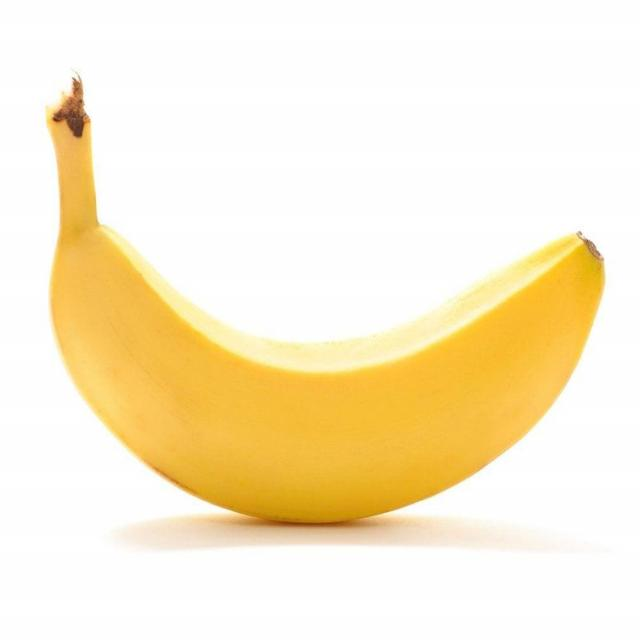banana: (40, 54, 609, 534)
